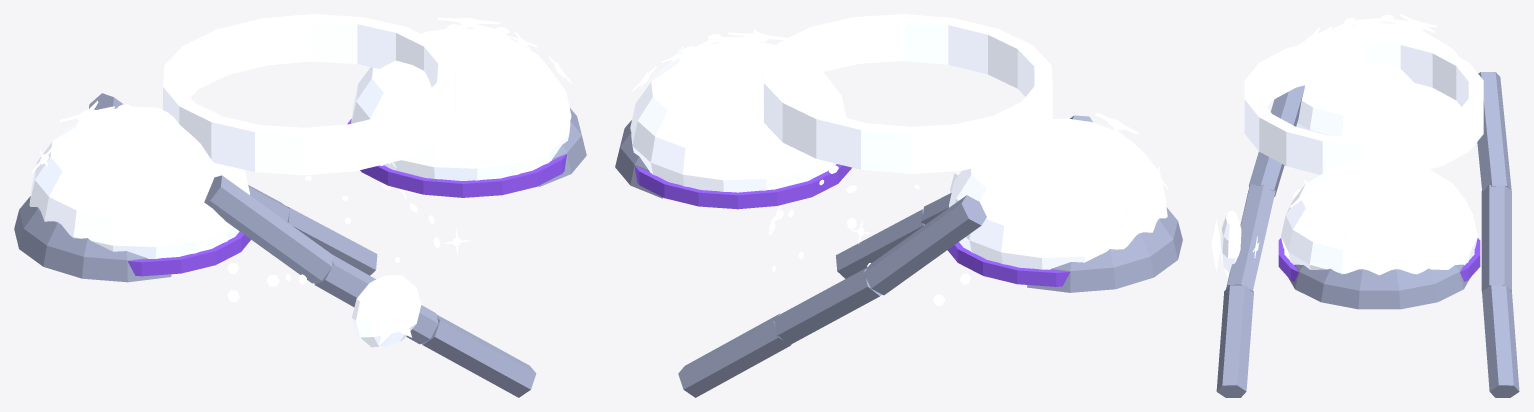
File: star_giant_chest.glb
3 views of the same model, side by side, from view 1: azimuth 30°, elevation 25°; view 2: azimuth 150°, elevation 25°; view 3: azimuth 270°, elevation 25° (orthographic). The views are drawn at different scales.
Parts seen in each view (by area): view 1: star_giant_chest; view 2: star_giant_chest; view 3: star_giant_chest.
Part boxes in pixels (x1,y1,x2,y2): star_giant_chest: [14, 14, 586, 397]; star_giant_chest: [615, 14, 1182, 397]; star_giant_chest: [1211, 14, 1519, 397].
Size of the model in its own units: 1.41 by 0.739 by 0.8127.
